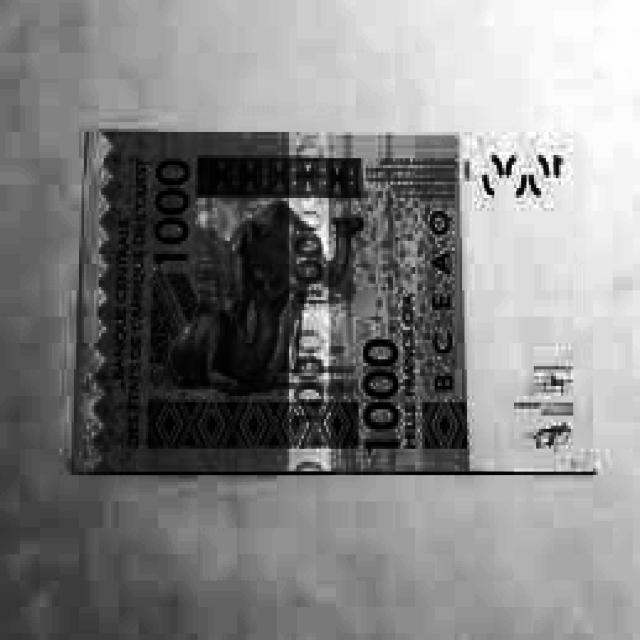niaar teemeer: (76, 134, 589, 472)
